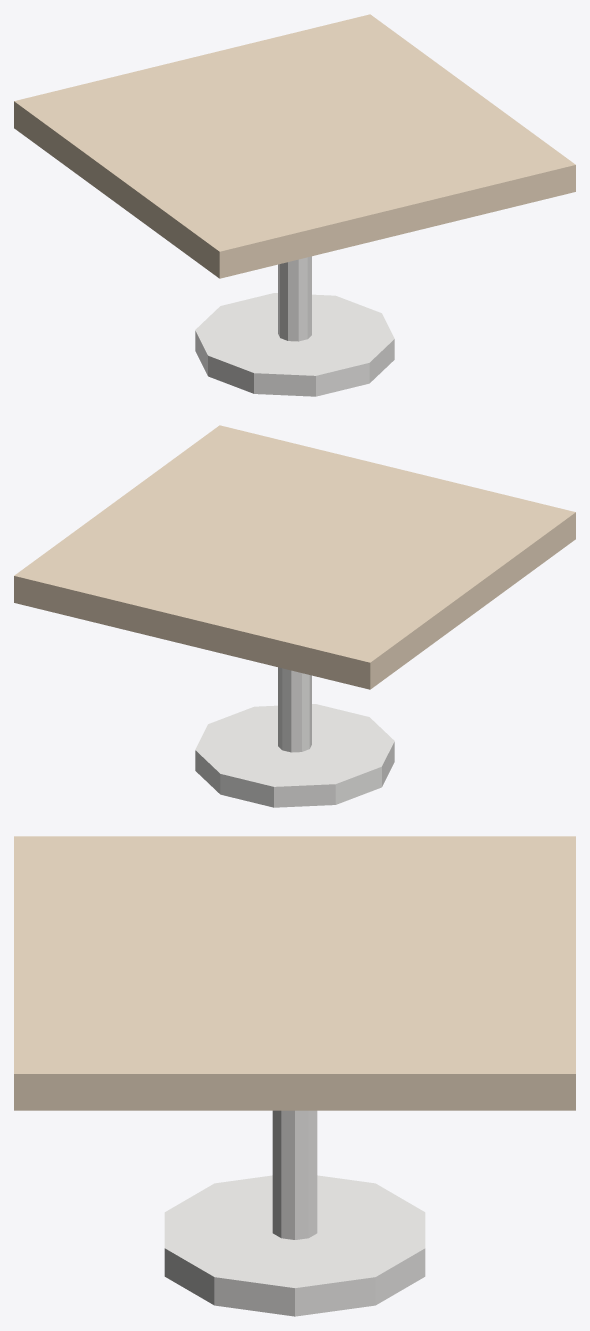
Rendered from fbx_restaurant_table2.fbx.
3 views of the same model, one above another, from view 1: azimuth 30°, elevation 25°; view 2: azimuth 150°, elevation 25°; view 3: azimuth 270°, elevation 25° (orthographic). The views are drawn at different scales.
Parts seen in each view (by area): view 1: fbx_restaurant_table2; view 2: fbx_restaurant_table2; view 3: fbx_restaurant_table2.
Boxes of the visible parts, box(x1,y1,x2,y2) form: fbx_restaurant_table2: box(14, 14, 575, 396); fbx_restaurant_table2: box(14, 425, 575, 807); fbx_restaurant_table2: box(14, 836, 575, 1316).
Size of the model in its own units: 2.13 by 1.27 by 2.13.
1 material, 1 textured.
